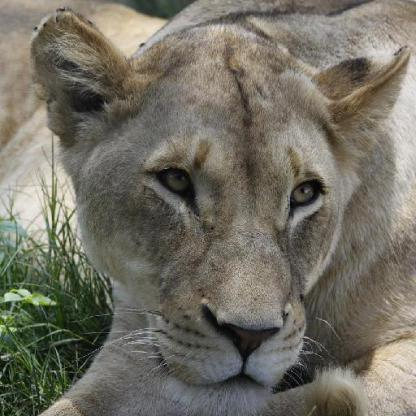lion: (46, 28, 388, 370)
